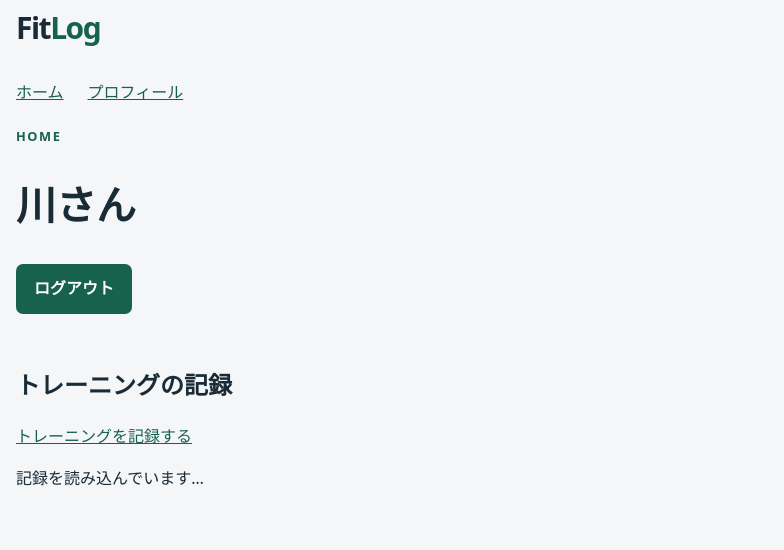
Test: restores account from me and logs out using the fetched CSRF token
expect the heading "川さん" is shown: met, box x1=16 y1=177 x2=136 y2=232
Click the button "ログアウト": (74, 289) x1=16 y1=264 x2=132 y2=314
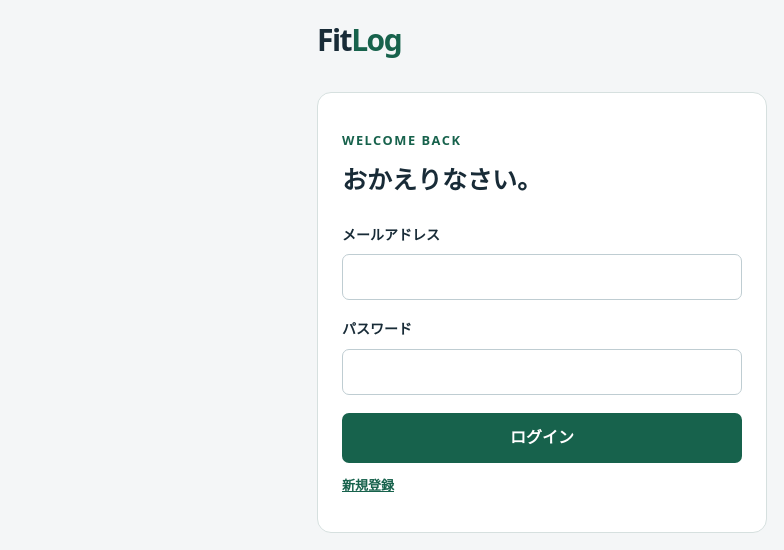
expect the button "ログイン" is shown: met, box x1=342 y1=413 x2=742 y2=463
